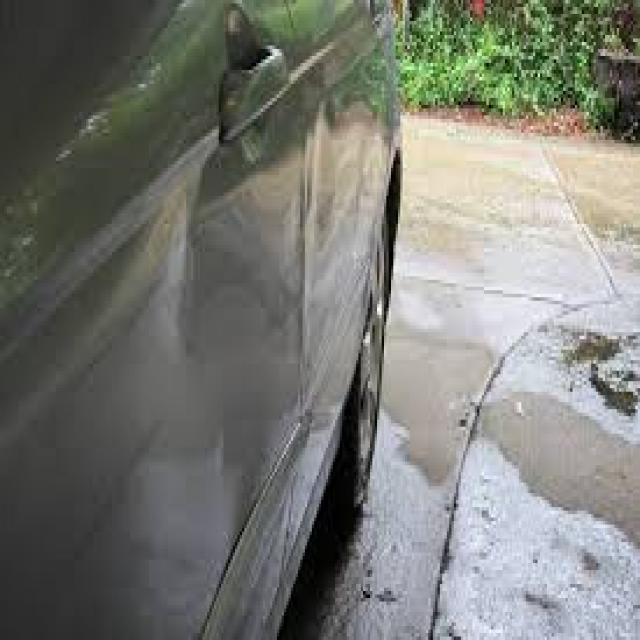minor: (154, 137, 334, 516)
